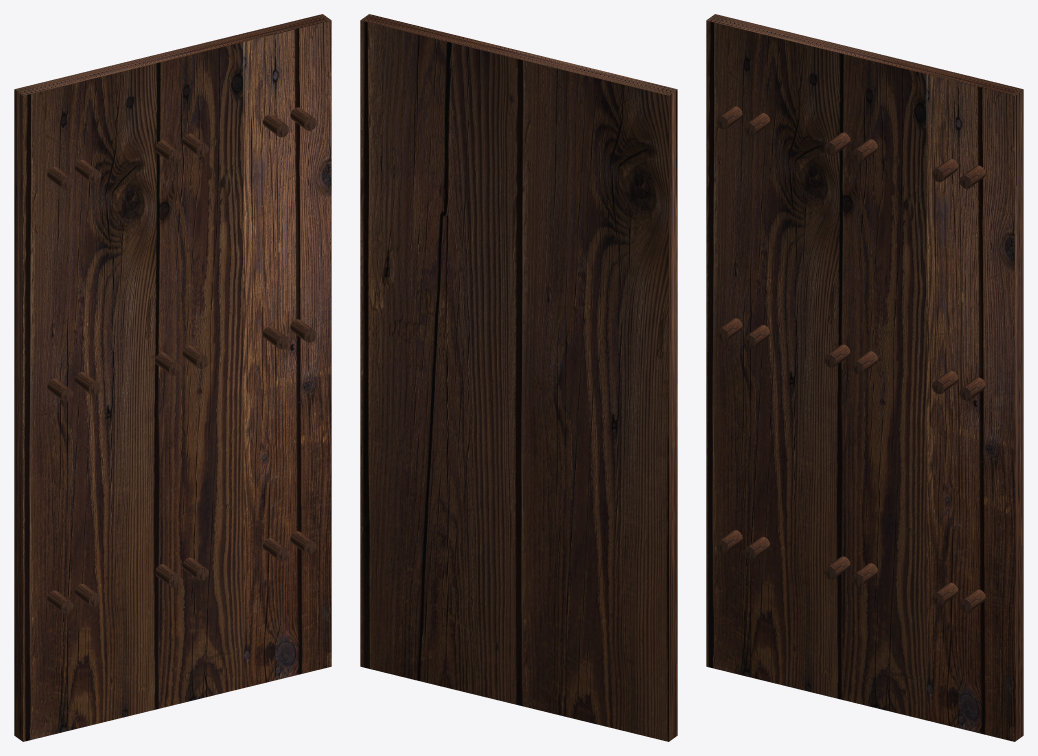
Rendered from WoodenRack.fbx.
3 renders of one model, left to right at view 1: azimuth 30°, elevation 25°; view 2: azimuth 150°, elevation 25°; view 3: azimuth 330°, elevation 25°, orthographic.
Parts seen in each view (by area): view 1: Cube, Cylinder; view 2: Cube; view 3: Cube, Cylinder.
Part boxes in pixels (bbox=[...]): Cube: bbox=[14, 14, 331, 741]; Cylinder: bbox=[47, 107, 316, 613]; Cube: bbox=[360, 14, 677, 741]; Cube: bbox=[706, 14, 1023, 741]; Cylinder: bbox=[716, 106, 985, 612].
Size of the model in its own units: 0.75 by 1.5 by 0.0962.
